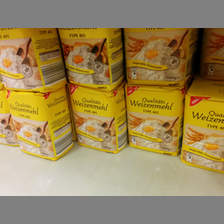flour: (7, 87, 71, 161), (67, 82, 126, 154), (124, 84, 182, 157), (1, 29, 68, 89), (122, 29, 192, 86), (57, 28, 124, 86), (181, 82, 223, 174)
